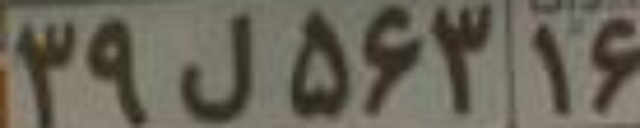1: (529, 26, 572, 116)
3: (15, 21, 74, 127), (432, 3, 488, 114)
5: (284, 10, 349, 116)
6: (360, 7, 419, 114), (584, 17, 639, 114)
9: (84, 20, 153, 125)
lam: (173, 12, 253, 123)
